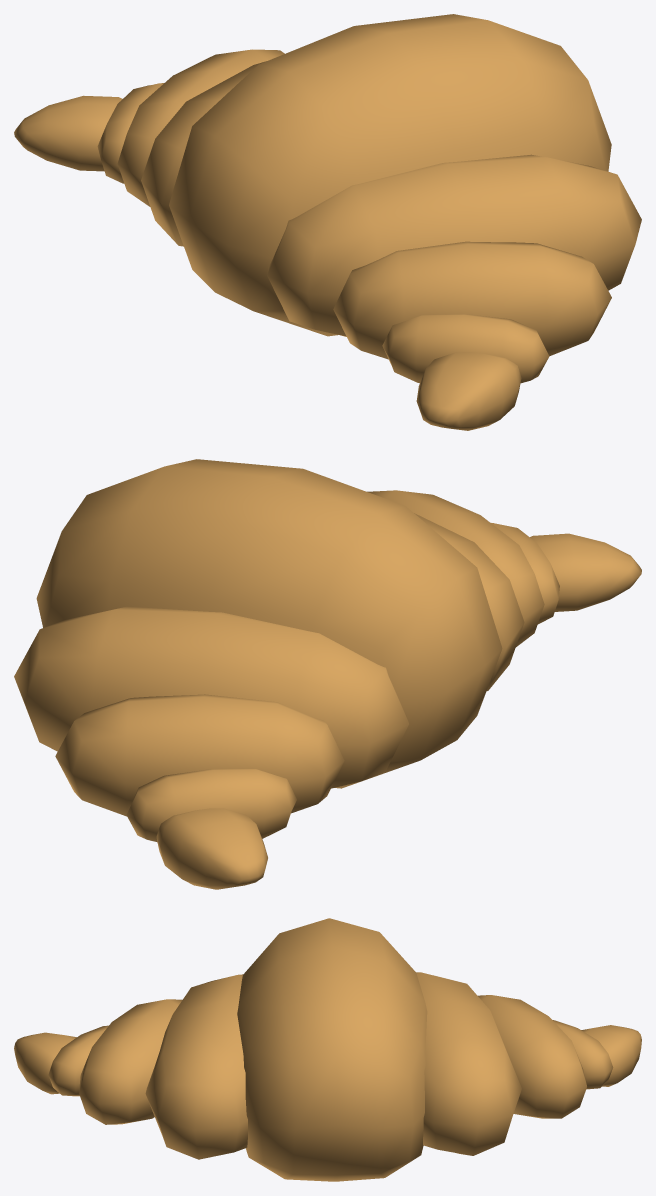
The model's file is Asset_croissant.fbx.
3 views of the same model, one above another, from view 1: azimuth 30°, elevation 25°; view 2: azimuth 150°, elevation 25°; view 3: azimuth 270°, elevation 25° (orthographic). The views are drawn at different scales.
Visible parts, largest first — view 1: Cube.035; view 2: Cube.035; view 3: Cube.035.
Boxes of the visible parts, bbox=[...] form: Cube.035: bbox=[14, 14, 641, 430]; Cube.035: bbox=[14, 459, 641, 889]; Cube.035: bbox=[14, 918, 641, 1181].
Bounding box in the file's own units: 6.75 × 4.31 × 11.83.
